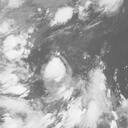cyclone: (41, 57, 70, 86)
